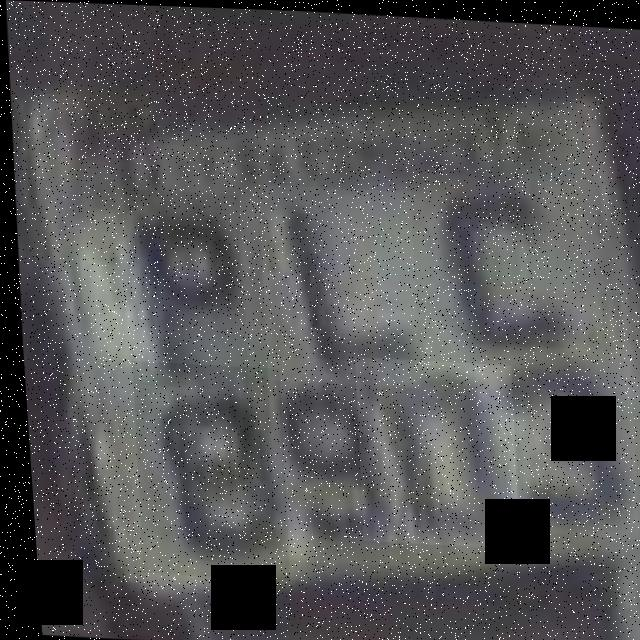0: (347, 354, 515, 545)
3: (466, 339, 635, 534)
8: (123, 359, 285, 578)
9: (258, 353, 396, 563)
J: (252, 182, 419, 385)
P: (117, 188, 246, 389)
